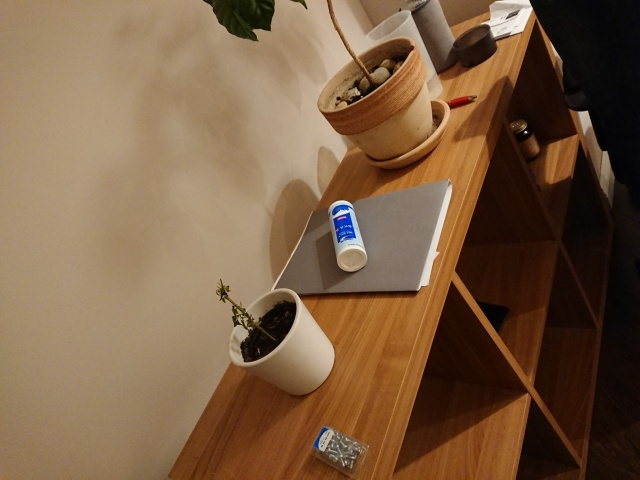Solana Pag Fine Sea Salt 250g: (324, 197, 371, 276)
